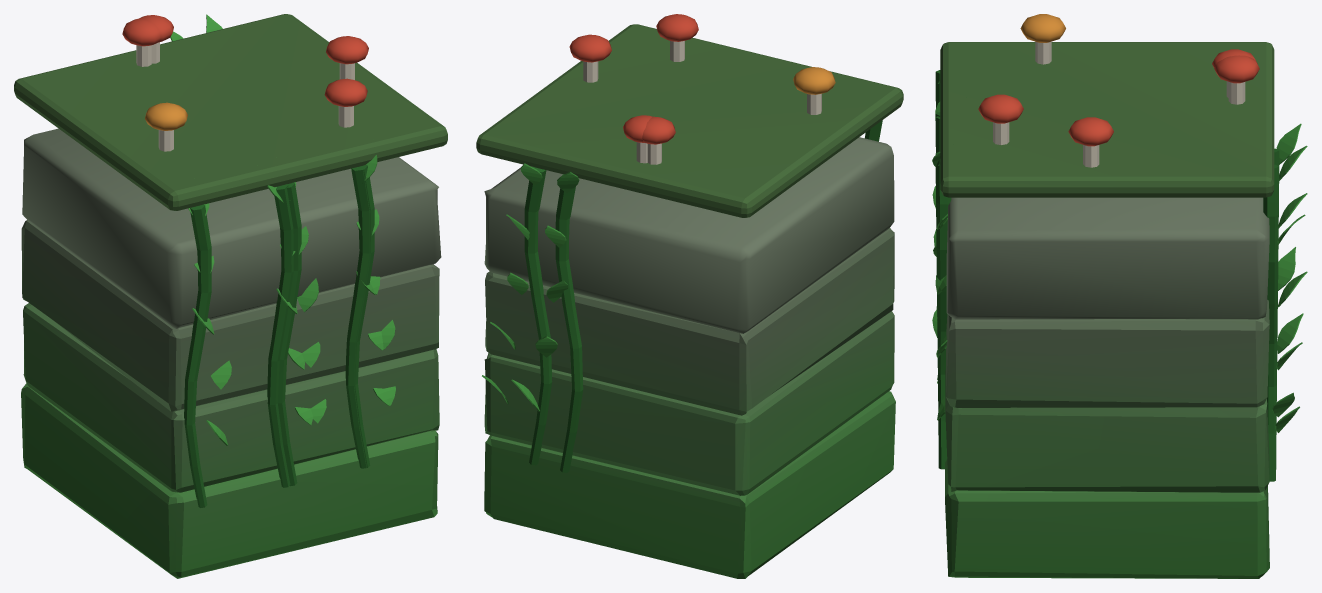
File: gym_wall_grove_lite.glb
The picture shows the model from 3 angles, left to right: view 1: azimuth 30°, elevation 25°; view 2: azimuth 150°, elevation 25°; view 3: azimuth 270°, elevation 25°; orthographic projection. The views are drawn at different scales.
Visible parts, largest first — view 1: Cube; view 2: Cube; view 3: Cube.
Boxes of the visible parts, x1=… form: Cube: x1=14, y1=14, x2=447, y2=578; Cube: x1=476, y1=14, x2=903, y2=578; Cube: x1=932, y1=14, x2=1307, y2=578.
Size of the model in its own units: 2.04 by 3.04 by 2.3.
